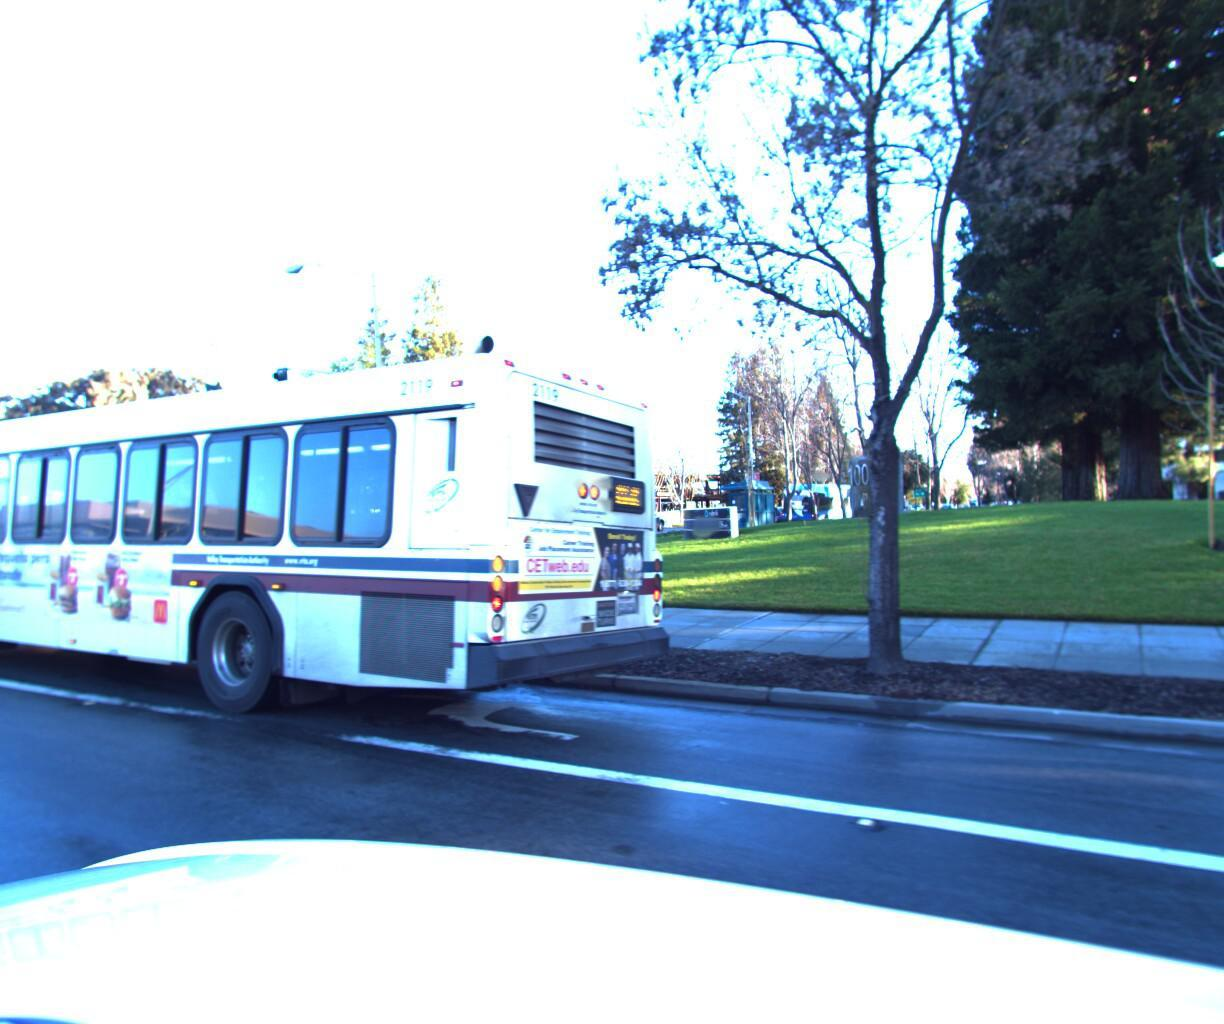bus: (0, 258, 681, 775)
